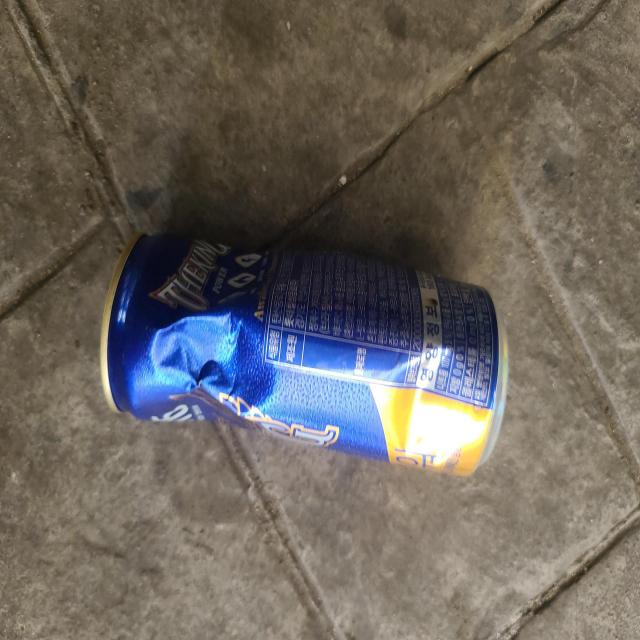can: (100, 235, 508, 476)
